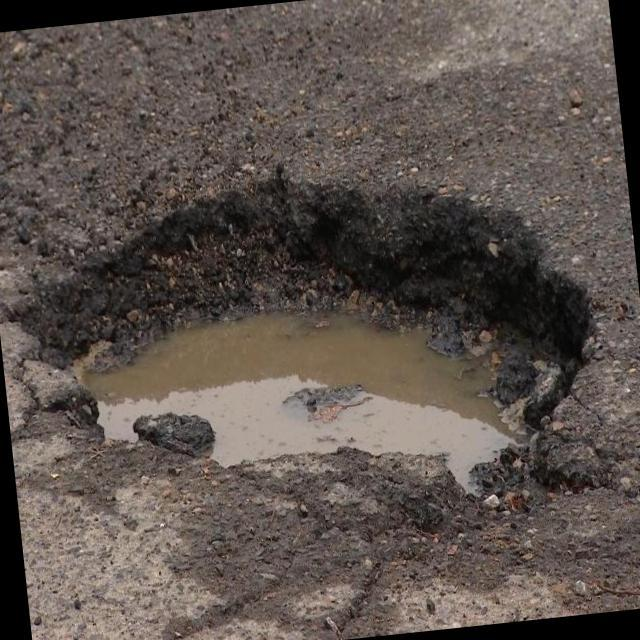Pothole: (0, 178, 593, 493)
